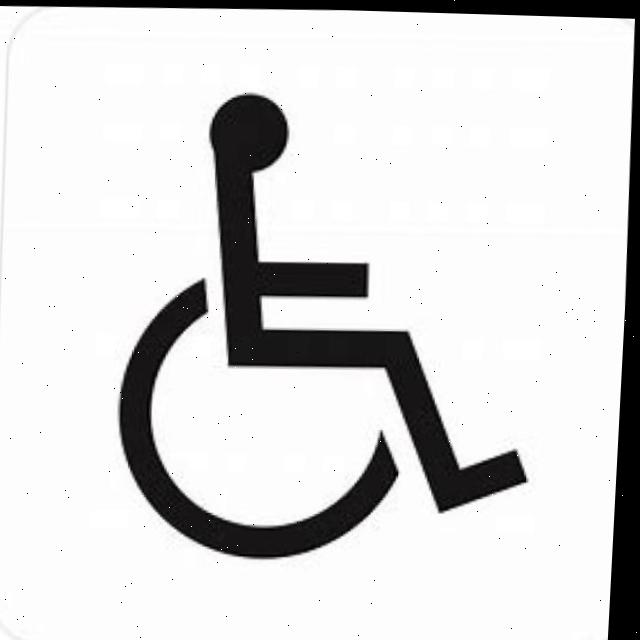symbol_of_access: (110, 79, 553, 573)
